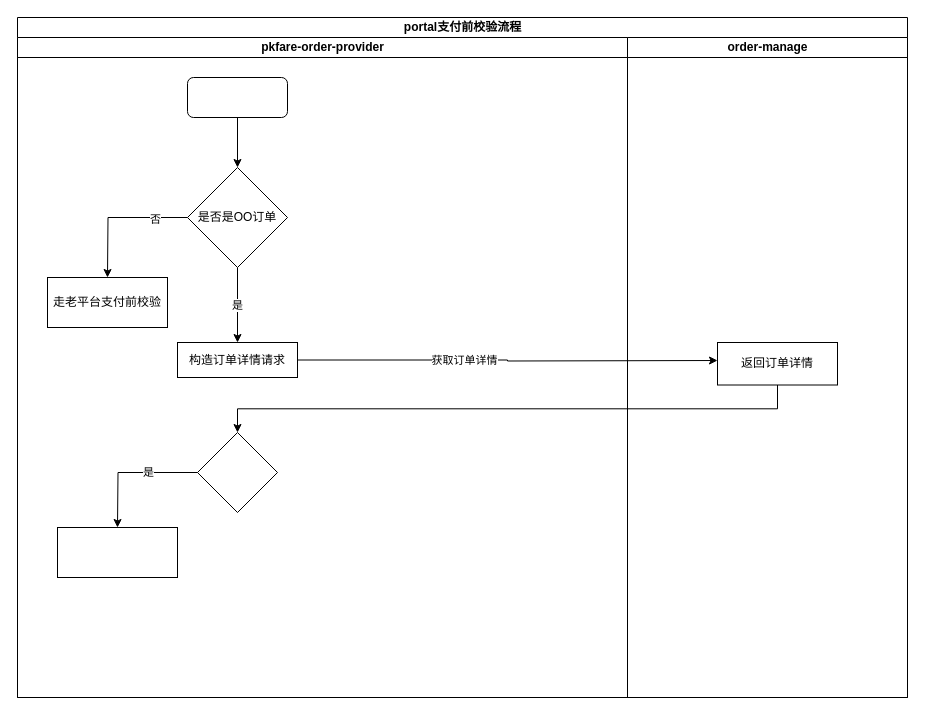
Image size: 925x715. Some labels were removed from this diagram. The shapes that lost their labels are listed below. From the top down, each one's centre as x and y in pixels, then its label:
At point (237, 97): "开始".
At point (237, 472): "是否是退改单".
At point (117, 552): "构造一个假的成功结果".
